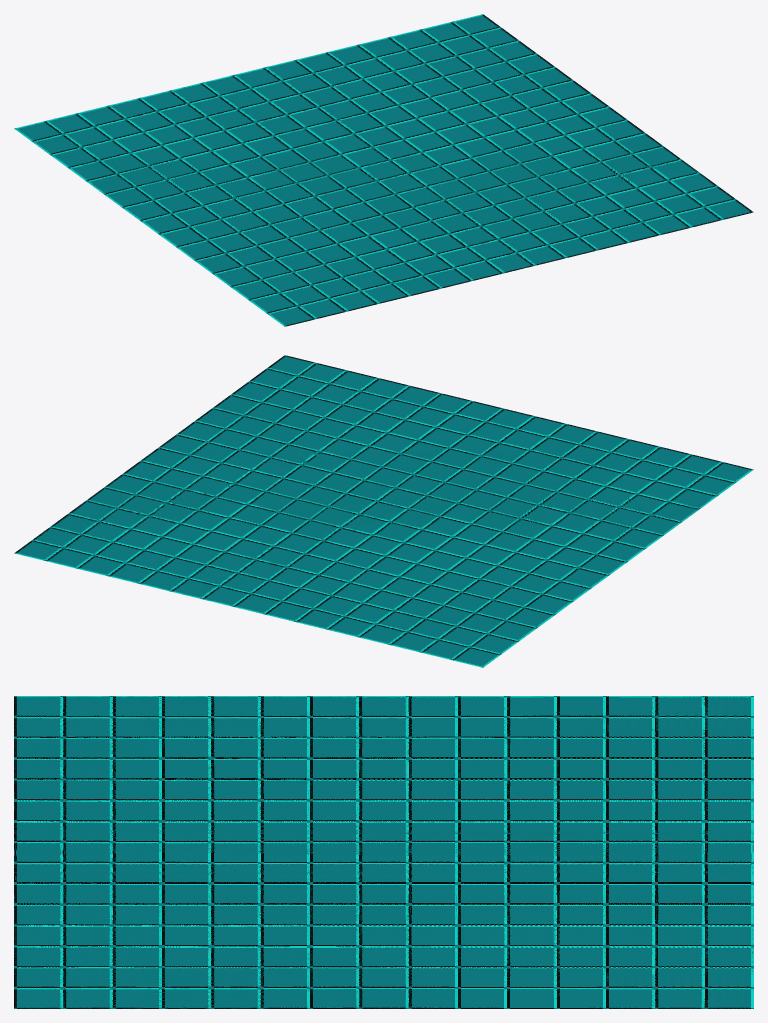
Rendered from Dungeon Floor.dae.
The picture shows the model from 3 angles, top to bottom: view 1: azimuth 30°, elevation 25°; view 2: azimuth 150°, elevation 25°; view 3: azimuth 270°, elevation 25°; orthographic projection. The views are drawn at different scales.
Parts seen in each view (by area): view 1: group_0; view 2: group_0; view 3: group_0.
Part boxes in pixels (left/top/right/bottom): group_0: left=14, top=14, right=753, bottom=326; group_0: left=14, top=355, right=753, bottom=667; group_0: left=14, top=696, right=753, bottom=1008.
Bounding box in the file's own units: 591 × 591 × 0.
